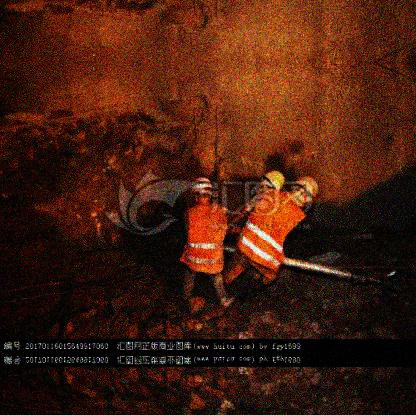helmet: (290, 174, 320, 207), (192, 176, 215, 204), (261, 169, 286, 192)
